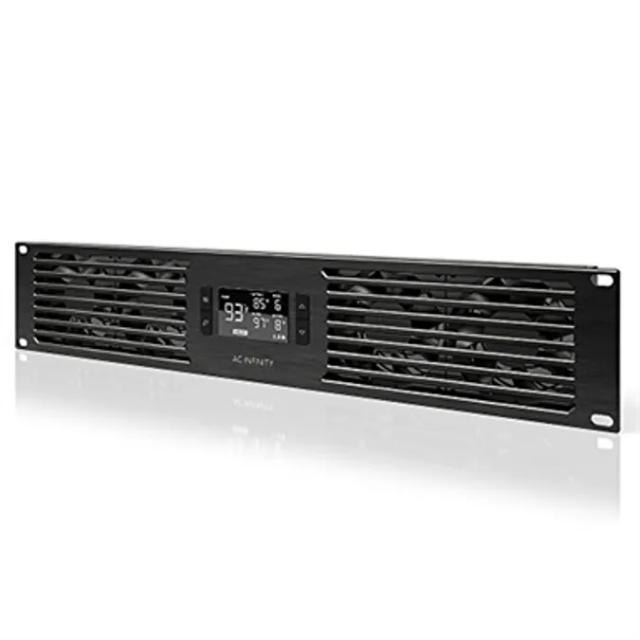Server: (12, 236, 630, 458)
